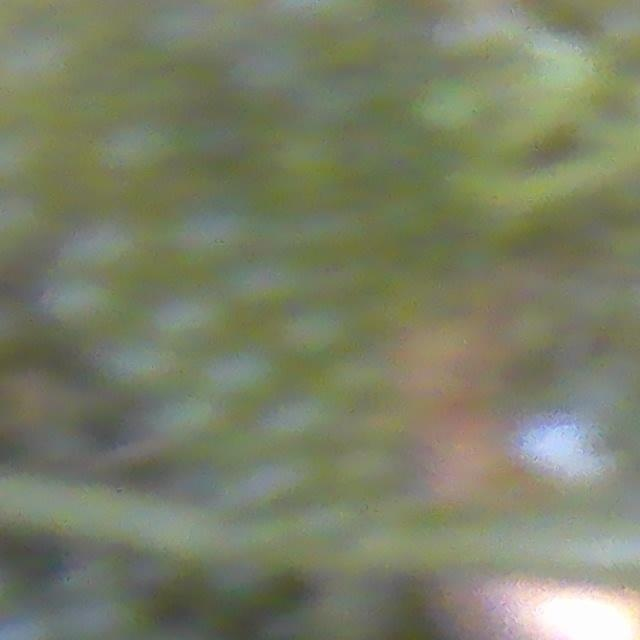SeaGrape: (64, 228, 167, 293), (94, 332, 179, 410), (201, 345, 284, 421), (41, 271, 119, 346), (148, 292, 238, 355), (147, 394, 222, 466), (267, 401, 353, 457)
